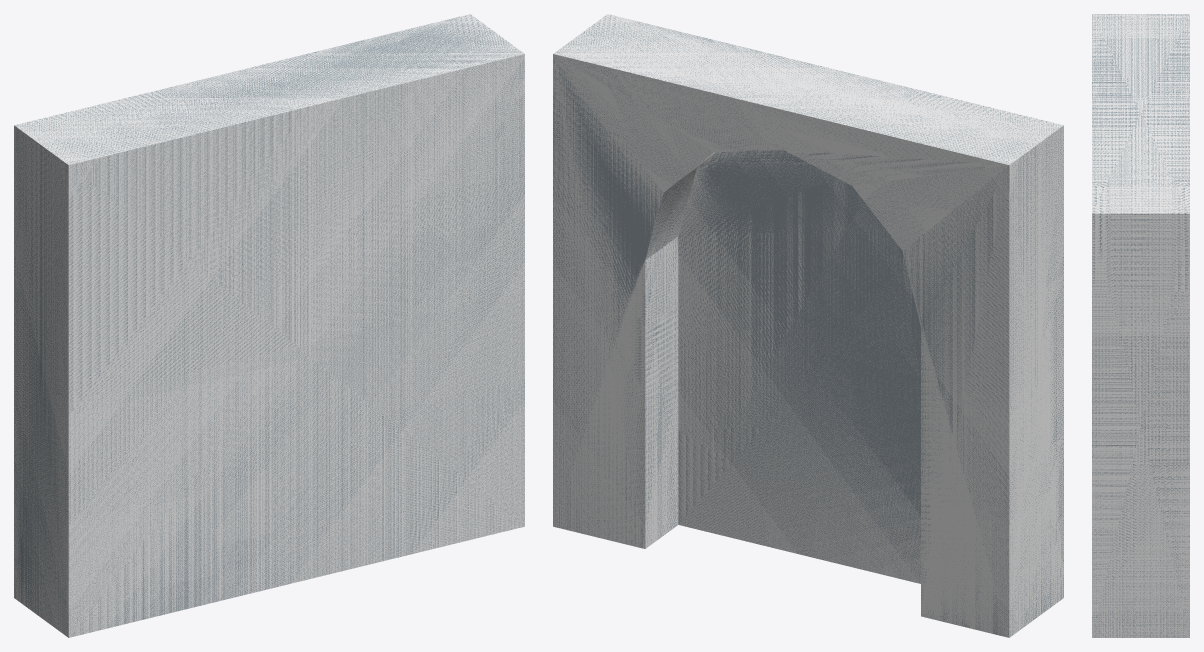
The model's file is gate.fbx.
3 renders of one model, left to right at view 1: azimuth 30°, elevation 25°; view 2: azimuth 150°, elevation 25°; view 3: azimuth 270°, elevation 25°, orthographic. The views are drawn at different scales.
Parts seen in each view (by area): view 1: Group1; view 2: Group1; view 3: Group1.
Boxes of the visible parts, <box> form: Group1: <box>14,14,524,637</box>; Group1: <box>553,14,1063,637</box>; Group1: <box>1092,14,1189,637</box>.
Size of the model in its own units: 5.8 by 5.75 by 1.2.
